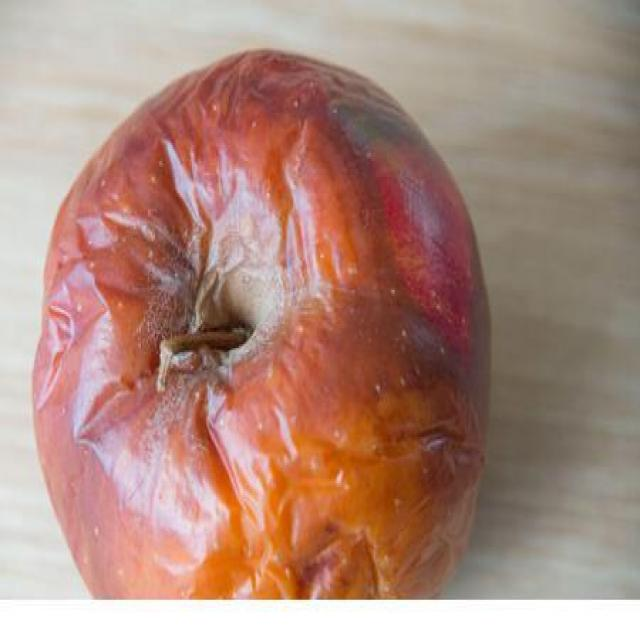Rotten: (23, 62, 507, 600)
